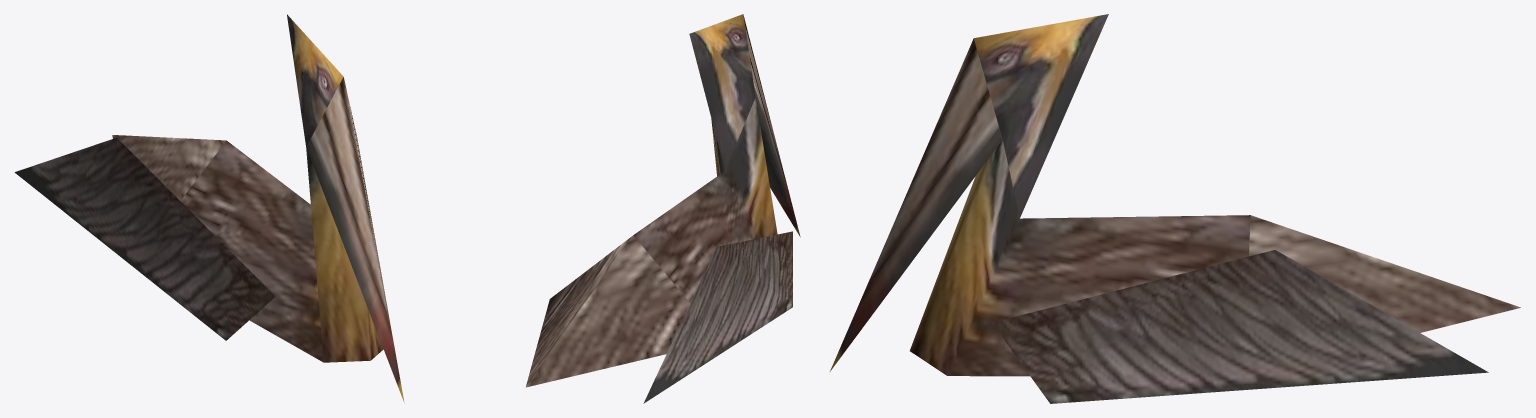
File: pelikki.far.glb
3 views of the same model, side by side, from view 1: azimuth 30°, elevation 25°; view 2: azimuth 150°, elevation 25°; view 3: azimuth 270°, elevation 25° (orthographic). The views are drawn at different scales.
Size of the model in its own units: 0.725 by 0.941 by 1.64.
1 material, 1 textured.
